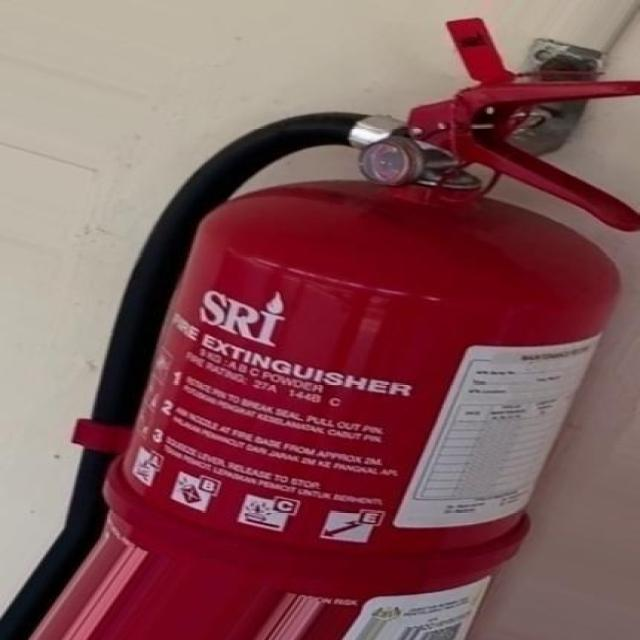fire_extinguisher: (9, 14, 638, 639)
